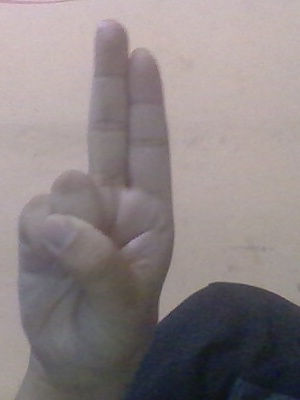U: (15, 17, 182, 384)
